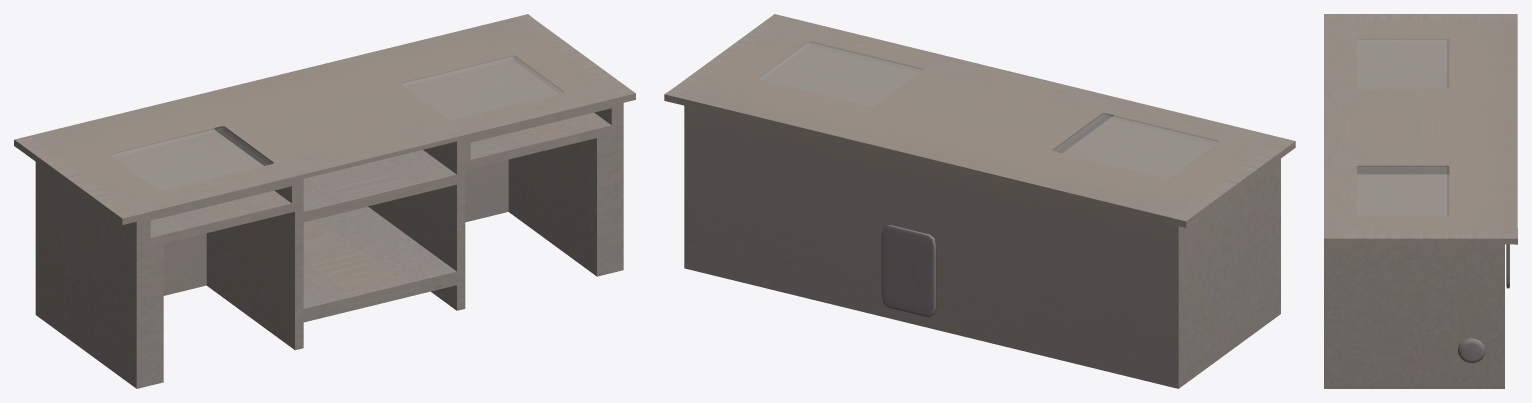
The model's file is Desk.fbx.
The picture shows the model from 3 angles, left to right: view 1: azimuth 30°, elevation 25°; view 2: azimuth 150°, elevation 25°; view 3: azimuth 270°, elevation 25°; orthographic projection. The views are drawn at different scales.
Parts seen in each view (by area): view 1: pCube19; view 2: pCube19; view 3: pCube19.
Part boxes in pixels (x1,y1,x2,y2): pCube19: (14, 14, 635, 388); pCube19: (664, 14, 1295, 388); pCube19: (1324, 14, 1517, 388).
Size of the model in its own units: 20.98 by 6.78 by 7.65.
Materials: 3 (2 with a texture image).
